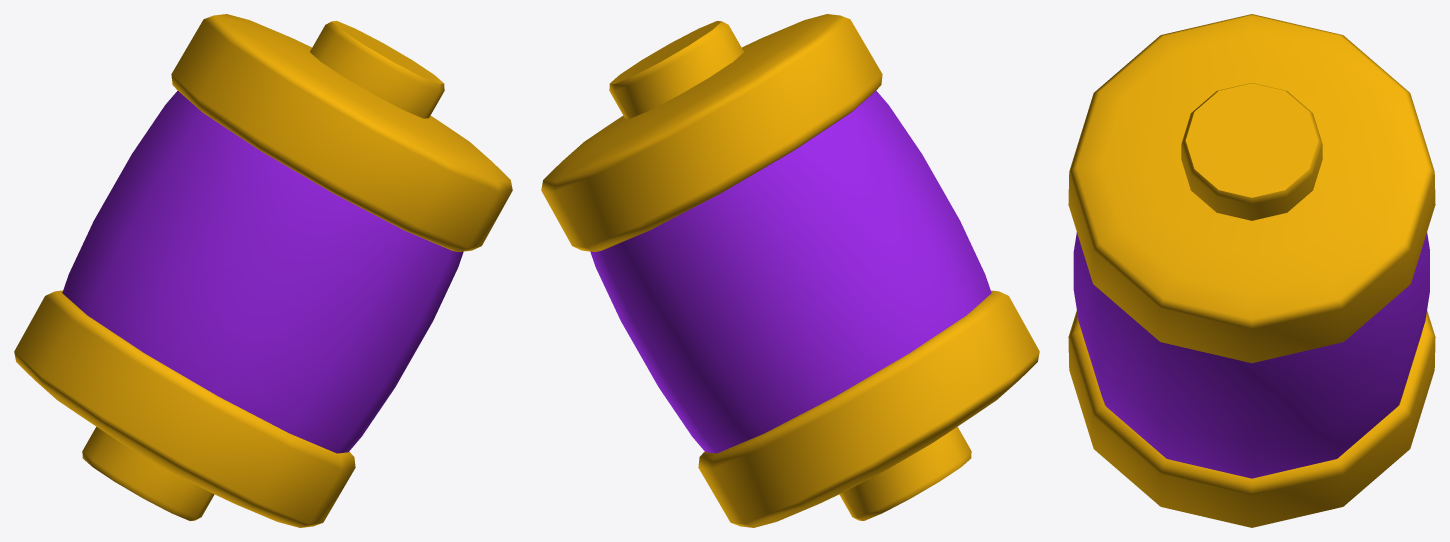
3 views of the same model, side by side, from view 1: azimuth 30°, elevation 25°; view 2: azimuth 150°, elevation 25°; view 3: azimuth 270°, elevation 25° (orthographic). The views are drawn at different scales.
Parts seen in each view (by area): view 1: model_0.019; view 2: model_0.019; view 3: model_0.019.
Part boxes in pixels (x1,y1,x2,y2): model_0.019: (14,14,512,527); model_0.019: (541,14,1039,527); model_0.019: (1068,14,1435,527).
Size of the model in its own units: 3.98 by 4.08 by 2.79.
